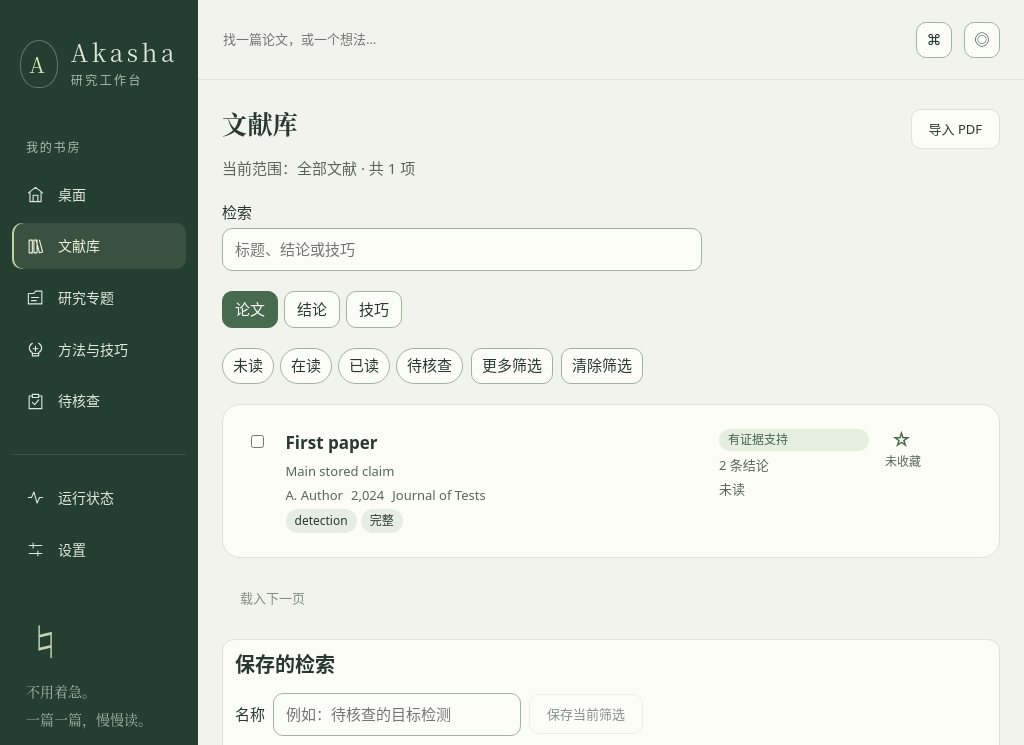
Scenario: UX-024 favourite toggles optimistically, rolls back, and keeps server truth › rolls back and explains when the save fails
Expected: the link "First paper" is shown, [286, 430, 378, 454]
Click the button named "收藏" at (901, 440), box [885, 428, 918, 450]
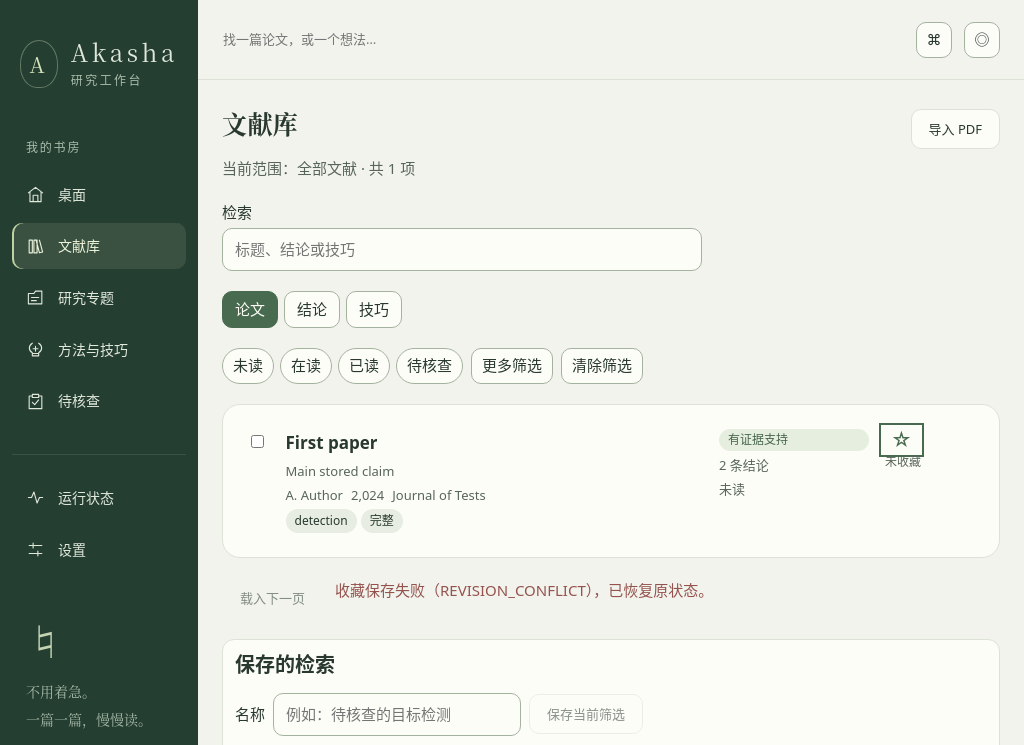
Expected: the text with test id "saved-state" reads "未收藏", [885, 452, 921, 470]
Now the message with test id "save-error" shows "REVISION_CONFLICT", box [440, 580, 586, 600]
Now the message with test id "save-error" shows "已恢复原状态", box [586, 580, 713, 600]
